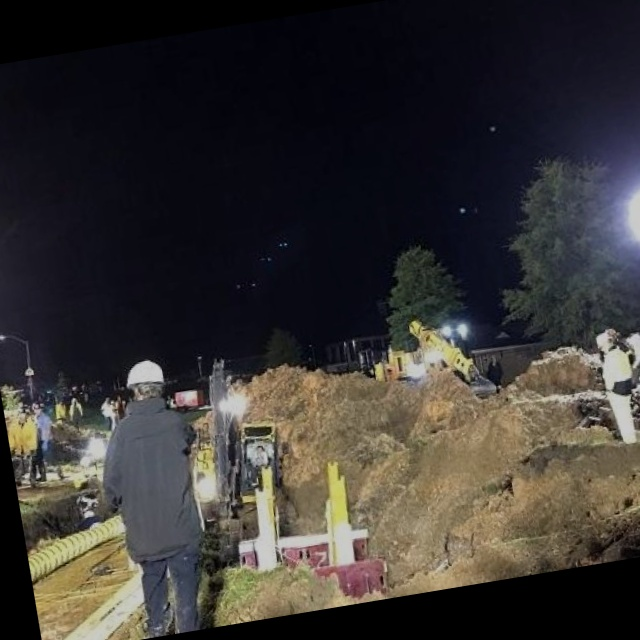Sin_Chaleco: (104, 402, 209, 558)
